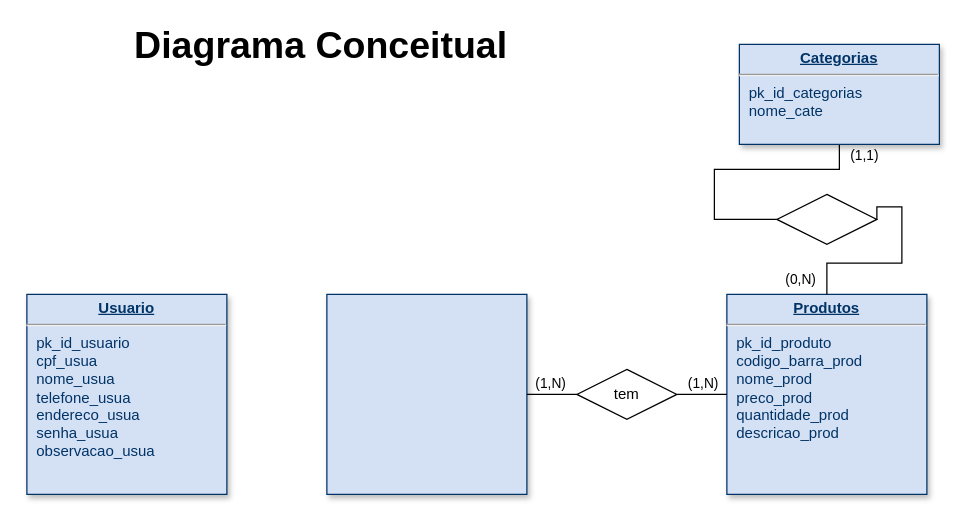
Image size: 969x525. Some labels were removed from this diagram. The shapes that lost their labels are listed below. From the top down, each one's centre as x and y in pixels, then its label:
(826,218): pertence
(427,395): Compras pk_id_compra valor_total_comp data_venda_comp status_comp
